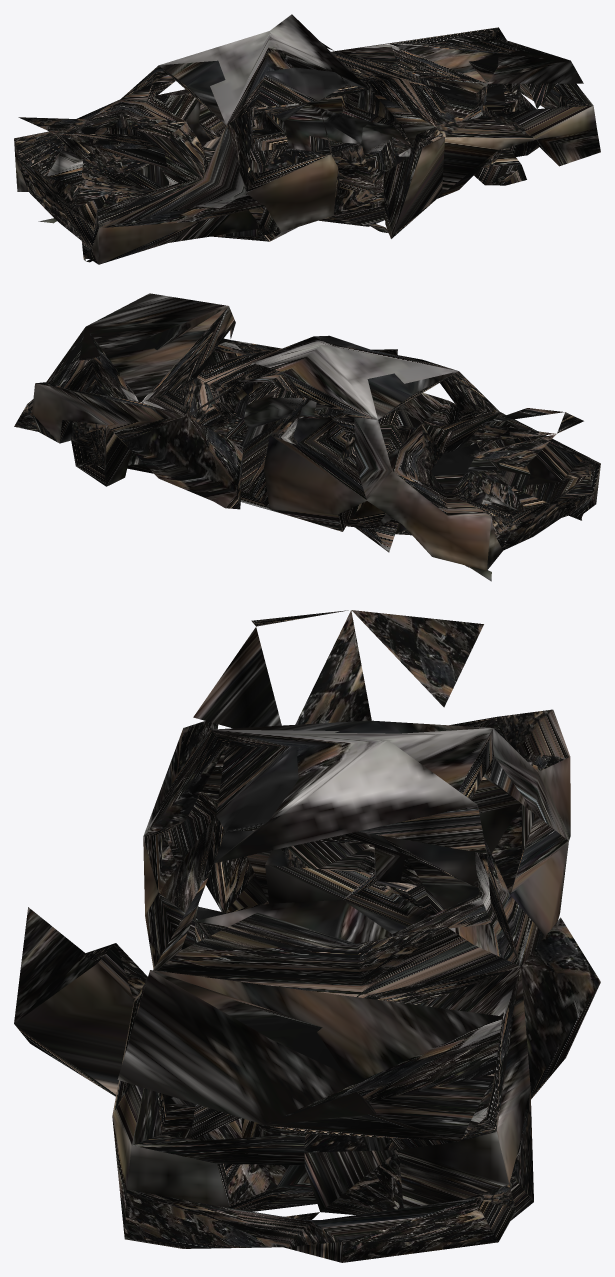
The model's file is wreck-sedan.lod1.glb.
3 renders of one model, top to bottom at view 1: azimuth 30°, elevation 25°; view 2: azimuth 150°, elevation 25°; view 3: azimuth 270°, elevation 25°, orthographic. The views are drawn at different scales.
Parts seen in each view (by area): view 1: Box001_caprice_low_Material_u1_v1_0; view 2: Box001_caprice_low_Material_u1_v1_0; view 3: Box001_caprice_low_Material_u1_v1_0.
Boxes of the visible parts, bbox=[...] form: Box001_caprice_low_Material_u1_v1_0: bbox=[14, 14, 600, 264]; Box001_caprice_low_Material_u1_v1_0: bbox=[14, 293, 600, 581]; Box001_caprice_low_Material_u1_v1_0: bbox=[14, 610, 600, 1262].
Size of the model in its own units: 5.11 by 1.56 by 2.65.
Materials: 1 (1 with a texture image).
